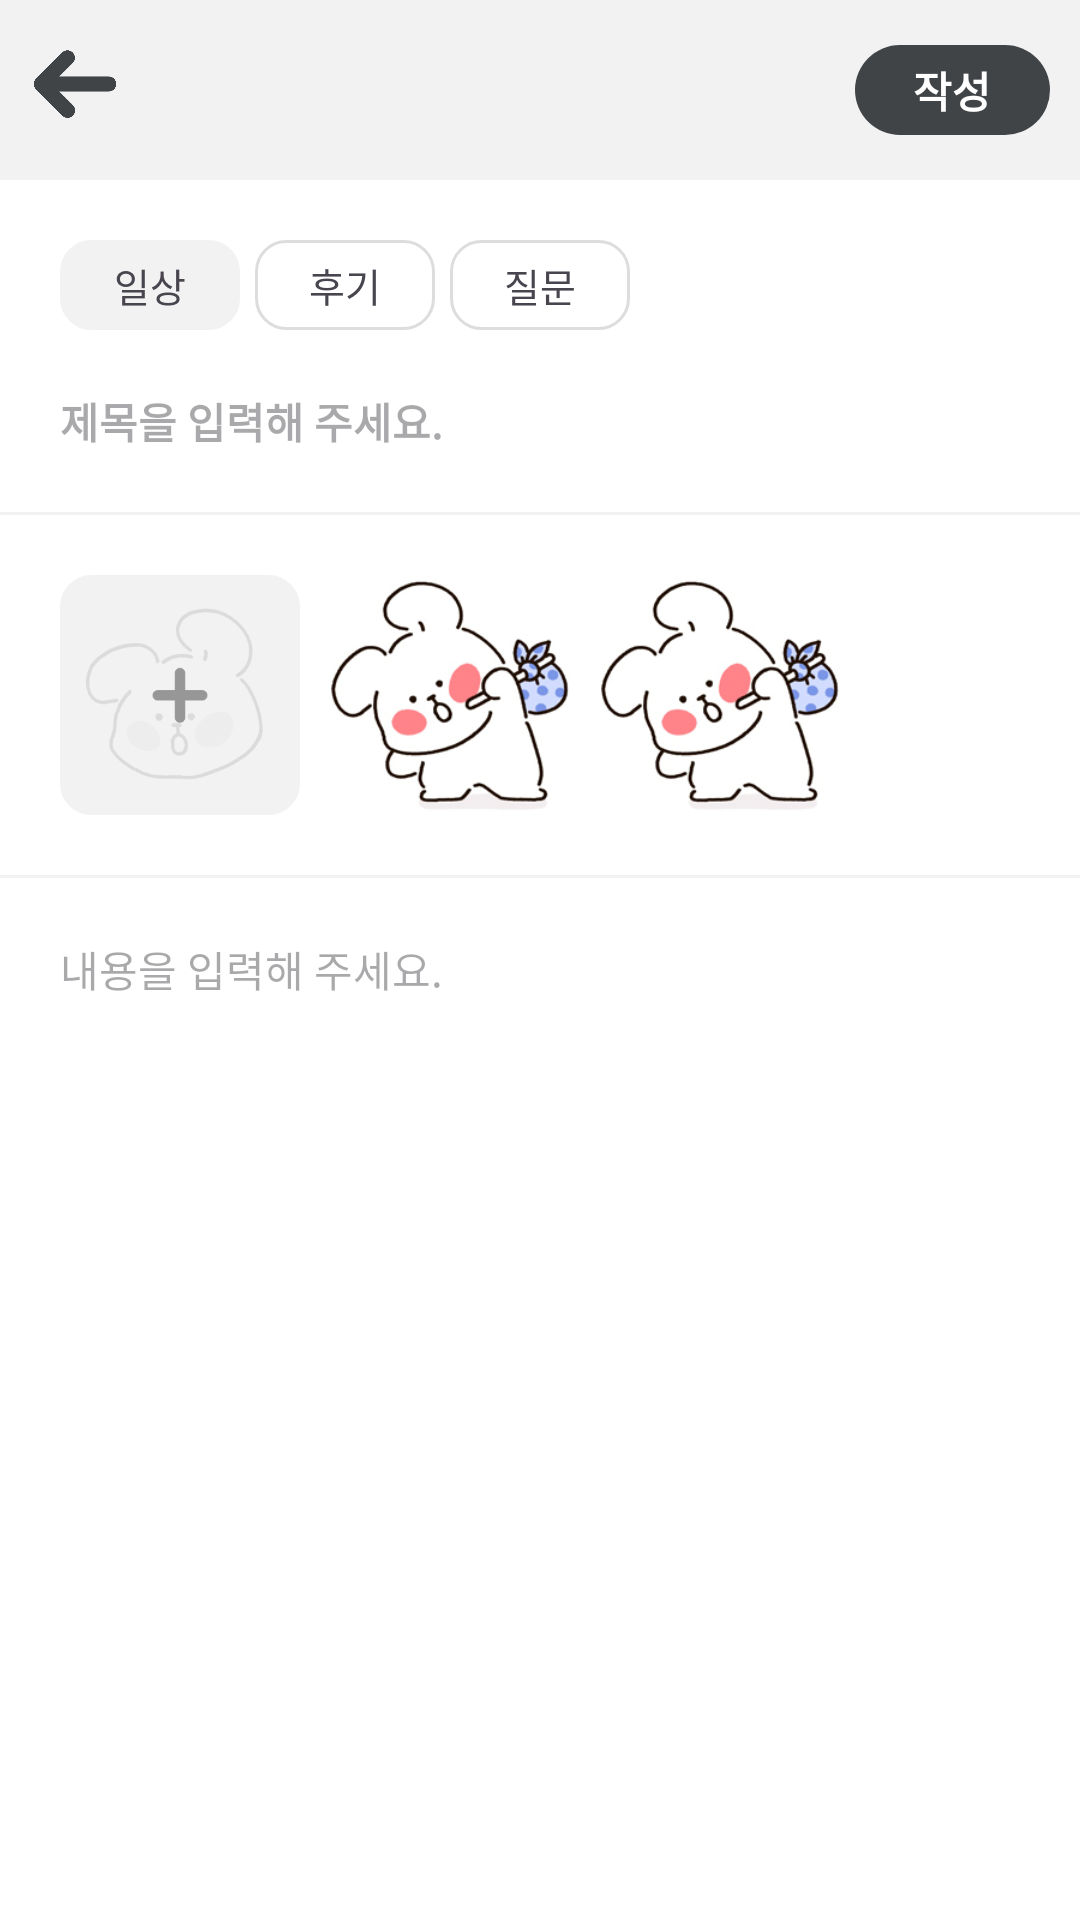

Where to tap for icons on this 1080 x 1920 app screen, as point (x, y):
back: point (75, 84)
defalt profile edit: point (180, 695)
